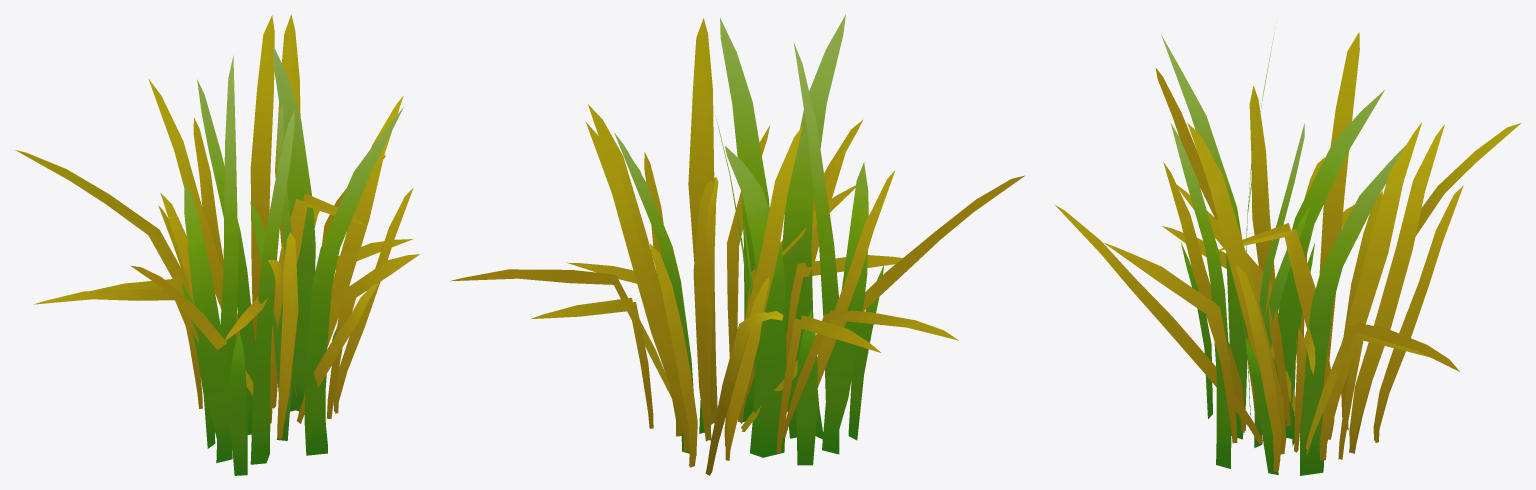
The model's file is grass.glb.
3 renders of one model, left to right at view 1: azimuth 30°, elevation 25°; view 2: azimuth 150°, elevation 25°; view 3: azimuth 270°, elevation 25°, orthographic. The views are drawn at different scales.
Visible parts, largest first — view 1: Grass_Common_Short, Grass_Wispy_Short; view 2: Grass_Wispy_Short, Grass_Common_Short; view 3: Grass_Wispy_Short, Grass_Common_Short.
Boxes of the visible parts, <box> form: Grass_Common_Short: <box>182,46,403,475</box>; Grass_Wispy_Short: <box>15,14,419,439</box>; Grass_Wispy_Short: <box>450,18,1024,475</box>; Grass_Common_Short: <box>614,14,883,465</box>; Grass_Wispy_Short: <box>1054,32,1520,472</box>; Grass_Common_Short: <box>1161,23,1405,475</box>.
Bounding box in the file's own units: 0.5551 × 0.5 × 0.5079.
1 material, 1 textured.
